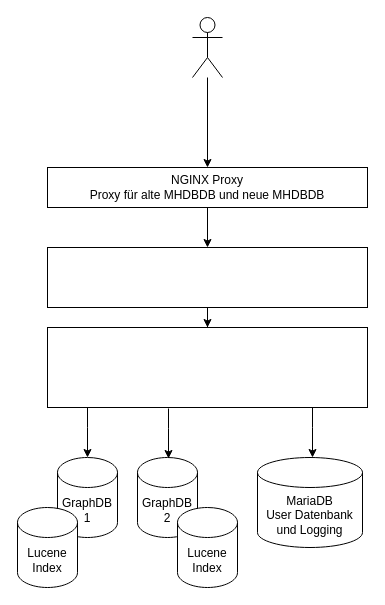
Some shapes in this 385 by 605 pixel diagram are drawn without their labels. The centre of each missing label's shape, as x and y in pixels:
Actor: (207,47)
Angular Frontend Container NGINX Proxy für statische Inhalte und REST API: (207,277)
Spring-Boot Backend Container REST API Spring Security TEI XSLT Service: (207,367)
